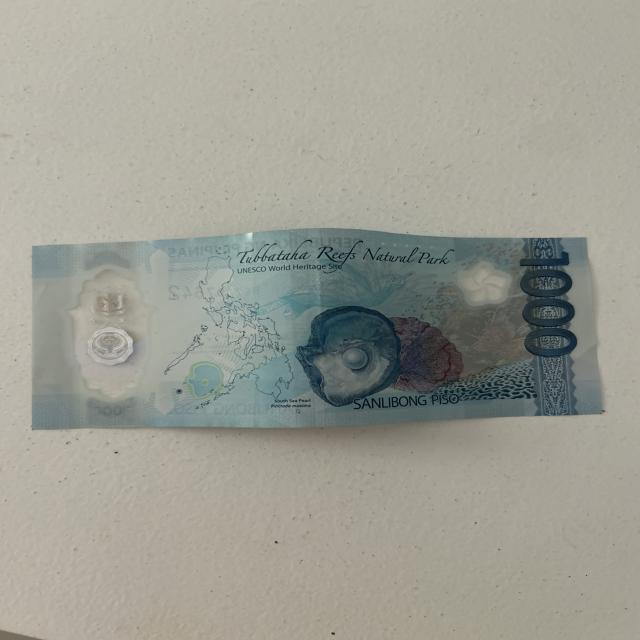clear_window: (70, 240, 156, 427)
sampaguita: (442, 256, 524, 315)
value: (515, 252, 583, 361)
value_watermark: (75, 391, 133, 431)
